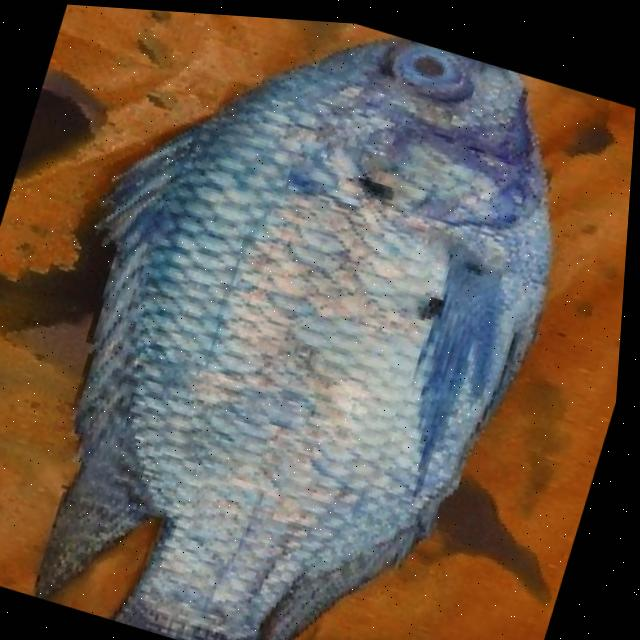Non-Fresh: (56, 4, 595, 567), (368, 27, 498, 126)
